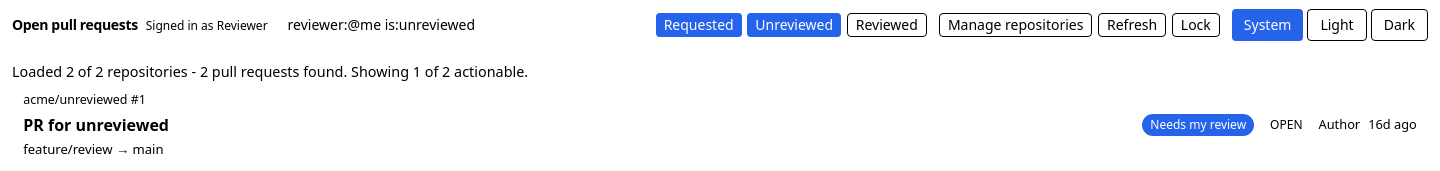
Test: InboxScreen › replaces a mixed-case review-state term when selecting Reviewed
Replace the text in the search field with "reviewer:@me is:Unreviewed" at (462,25), box [280,13,644,37]
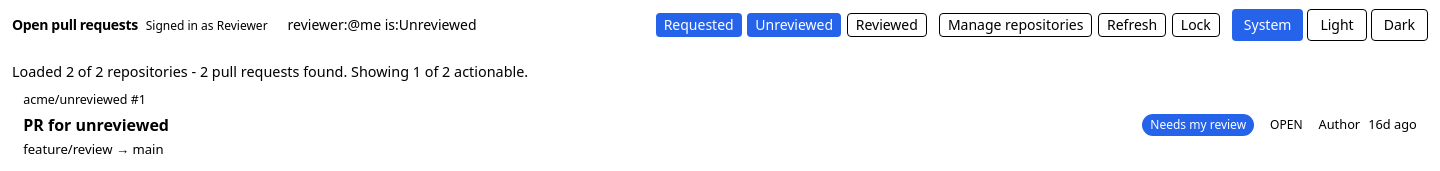
Click the button "Reviewed" at (887,24), box [847,12,927,36]
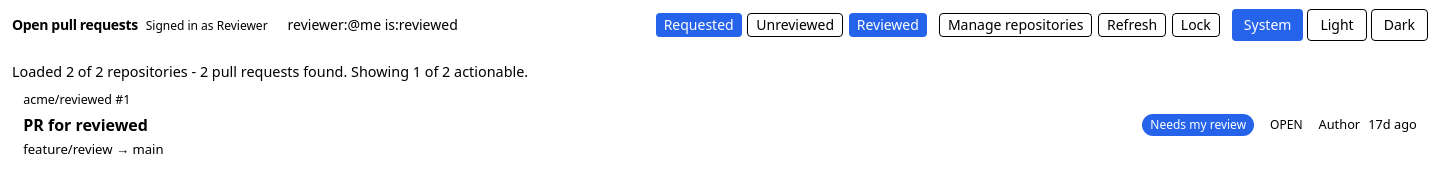
Expected: the search field holds "reviewer:@me is:reviewed", [280,13,644,37]
Expected: the button "PR for unreviewed" is gone
Expected: the text "PR for reviewed" is shown, [23,112,164,136]
